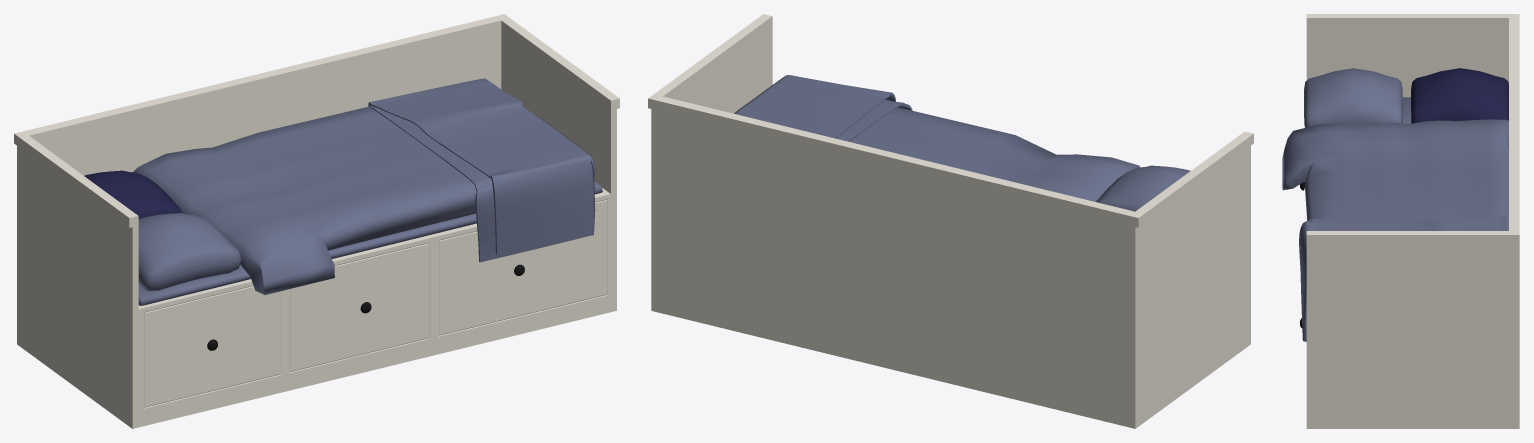
The model's file is IKE050020.obj.
3 renders of one model, left to right at view 1: azimuth 30°, elevation 25°; view 2: azimuth 150°, elevation 25°; view 3: azimuth 270°, elevation 25°, orthographic. The views are drawn at different scales.
Visible parts, largest first — view 1: A, Box01; view 2: A, Box01; view 3: A, Box01.
Part boxes in pixels (x1=…): A: x1=14, y1=14, x2=619, y2=428; Box01: x1=84, y1=78, x2=602, y2=305; A: x1=648, y1=14, x2=1253, y2=428; Box01: x1=734, y1=75, x2=1190, y2=211; A: x1=1306, y1=14, x2=1519, y2=428; Box01: x1=1282, y1=68, x2=1508, y2=341.
Bounding box in the file's own units: 2110 × 870 × 959.
